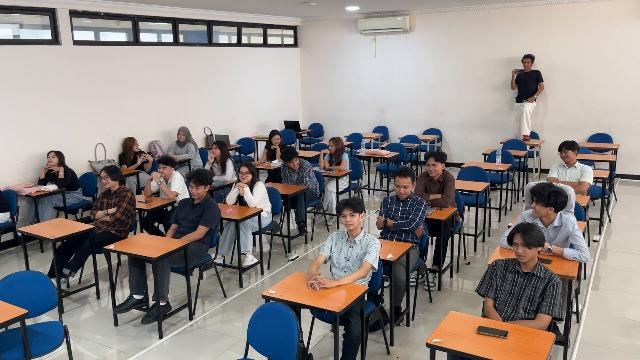senang: (512, 238, 532, 262), (394, 178, 411, 200), (341, 210, 358, 230), (531, 199, 546, 215), (426, 160, 440, 177), (238, 167, 252, 182), (559, 147, 573, 161), (189, 183, 202, 198), (287, 157, 300, 170), (100, 173, 112, 187), (47, 152, 57, 165), (158, 165, 170, 175), (211, 144, 221, 154), (177, 131, 186, 142), (328, 140, 335, 153), (272, 135, 281, 145)
